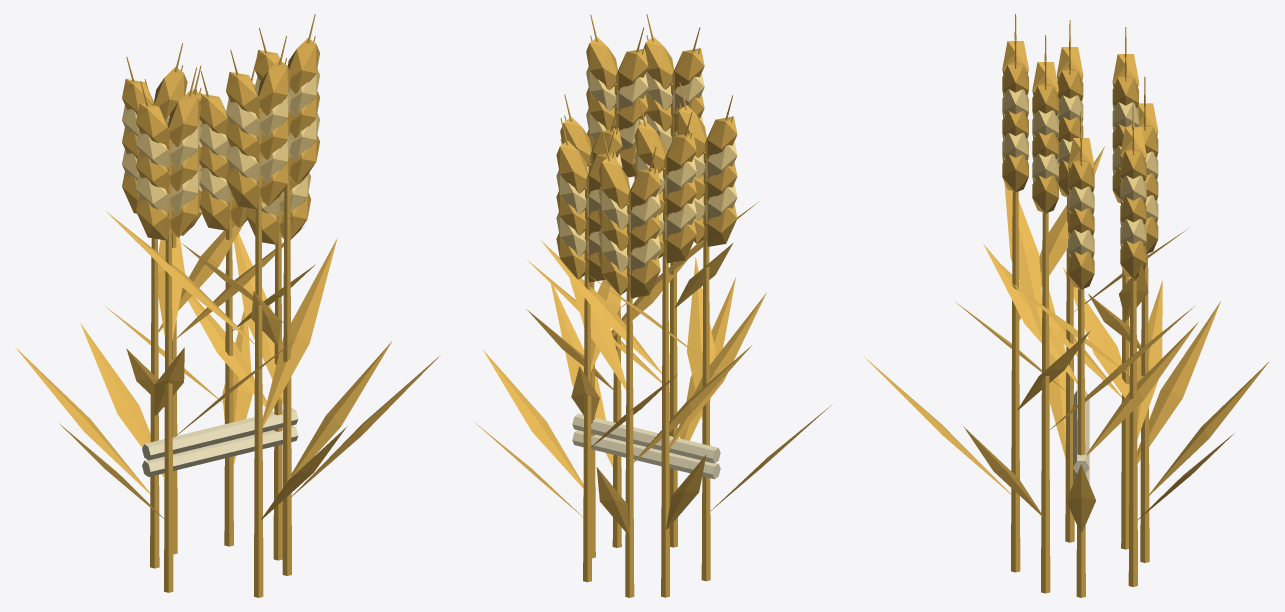
The model's file is wheat_harvest.glb.
The picture shows the model from 3 angles, left to right: view 1: azimuth 30°, elevation 25°; view 2: azimuth 150°, elevation 25°; view 3: azimuth 270°, elevation 25°; orthographic projection. The views are drawn at different scales.
Parts seen in each view (by area): view 1: wheat_harvest_Mesh; view 2: wheat_harvest_Mesh; view 3: wheat_harvest_Mesh.
Boxes of the visible parts, x1,y1,x2,y2 form: wheat_harvest_Mesh: (15,14,440,597); wheat_harvest_Mesh: (473,14,833,597); wheat_harvest_Mesh: (864,14,1269,597).
Bounding box in the file's own units: 0.6679 × 1 × 0.6801.
